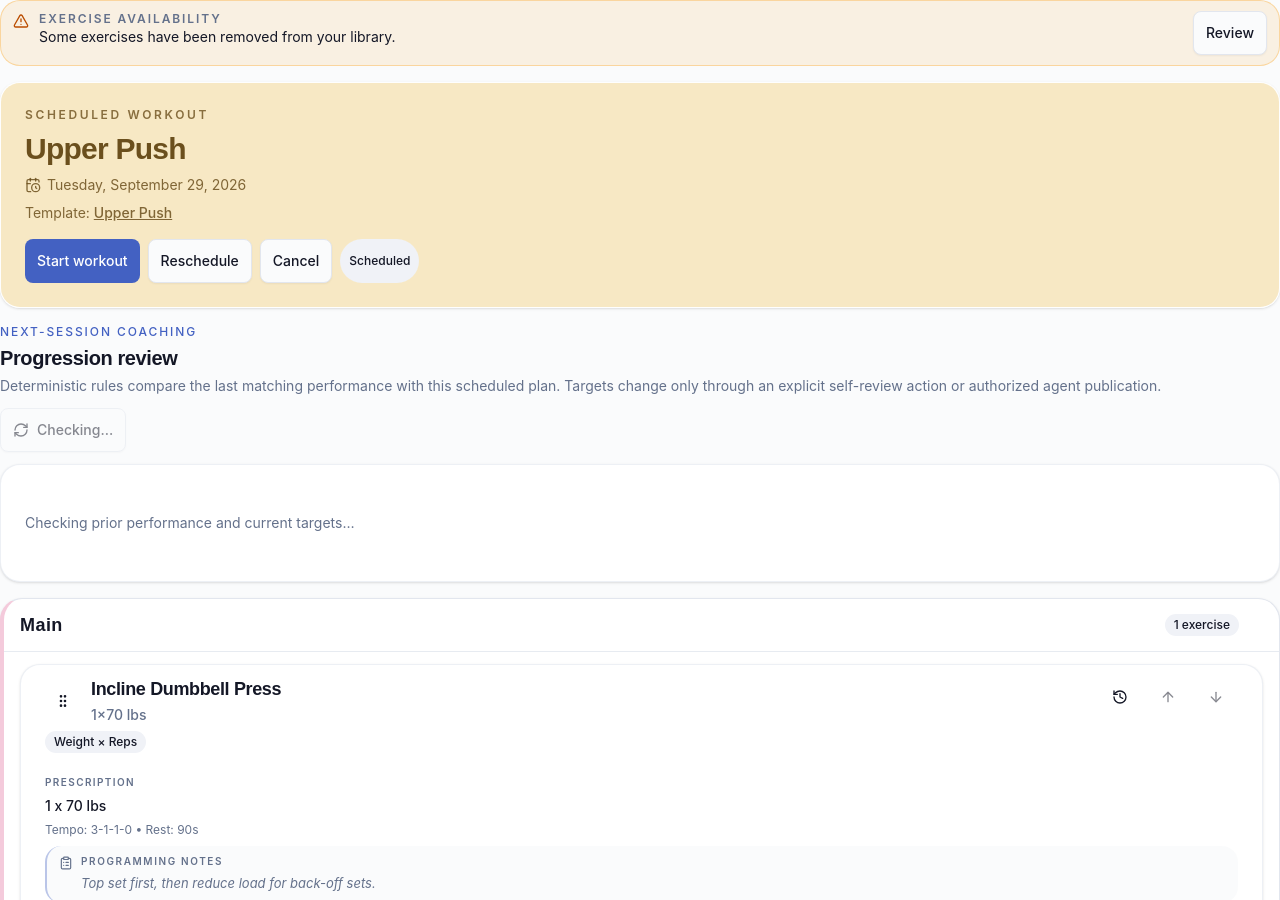
ScheduledWorkoutDetail › opens stale recovery modal when start-session returns STALE_SNAPSHOT_EXERCISES
The image size is (1280, 900).
Click the button "Start workout" at (82, 261), box [25,239,140,283]
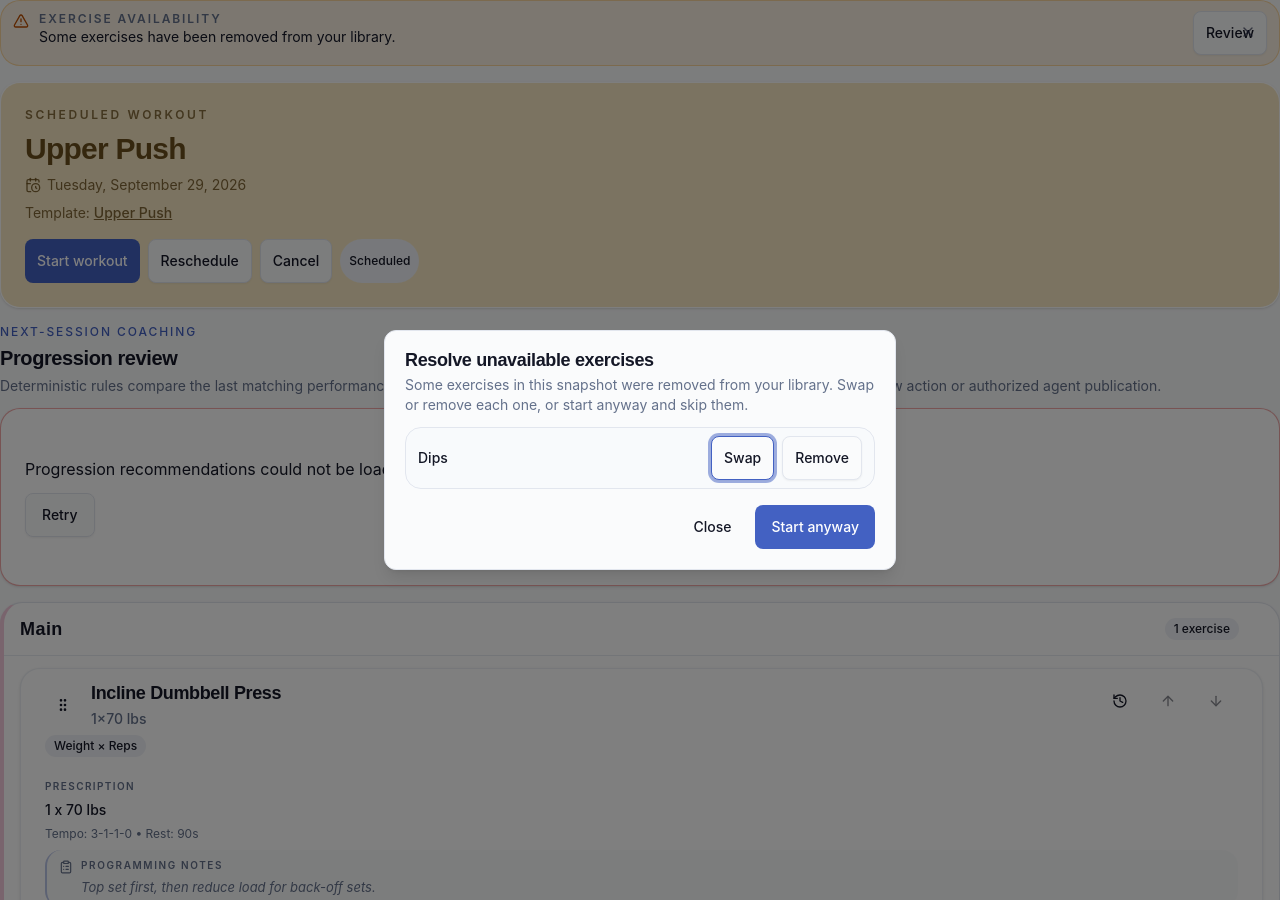
Result: the heading "Resolve unavailable exercises" is shown at [405,350,654,370]
Result: the text "Dips" is shown at [418,448,448,468]
